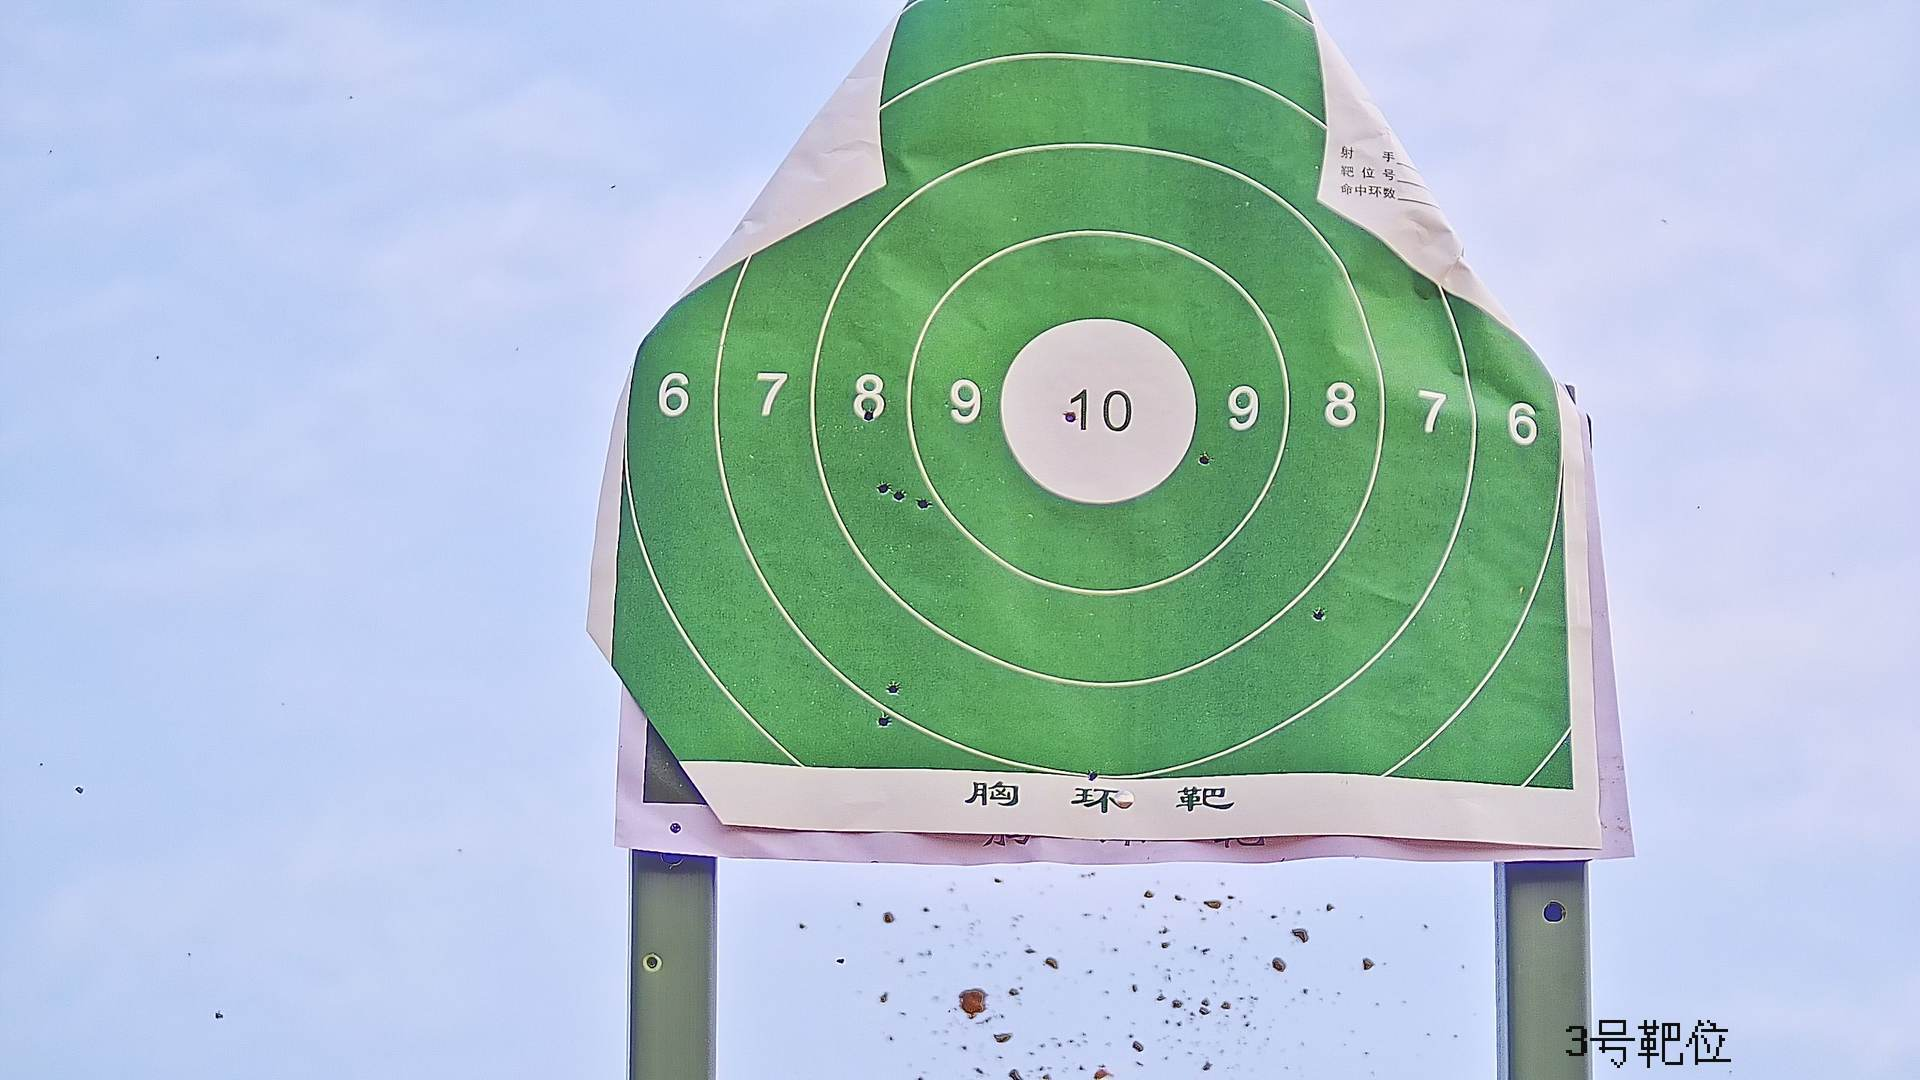hole: (1196, 450, 1211, 467), (1309, 607, 1327, 621), (876, 713, 890, 727), (886, 680, 899, 694), (893, 488, 905, 502), (916, 498, 930, 510), (1065, 410, 1077, 423), (1087, 769, 1098, 781), (862, 410, 874, 421), (878, 483, 887, 495)
kernel: (1096, 411, 1102, 415)
target: (611, 1, 1578, 796)
ten: (997, 316, 1201, 505)
